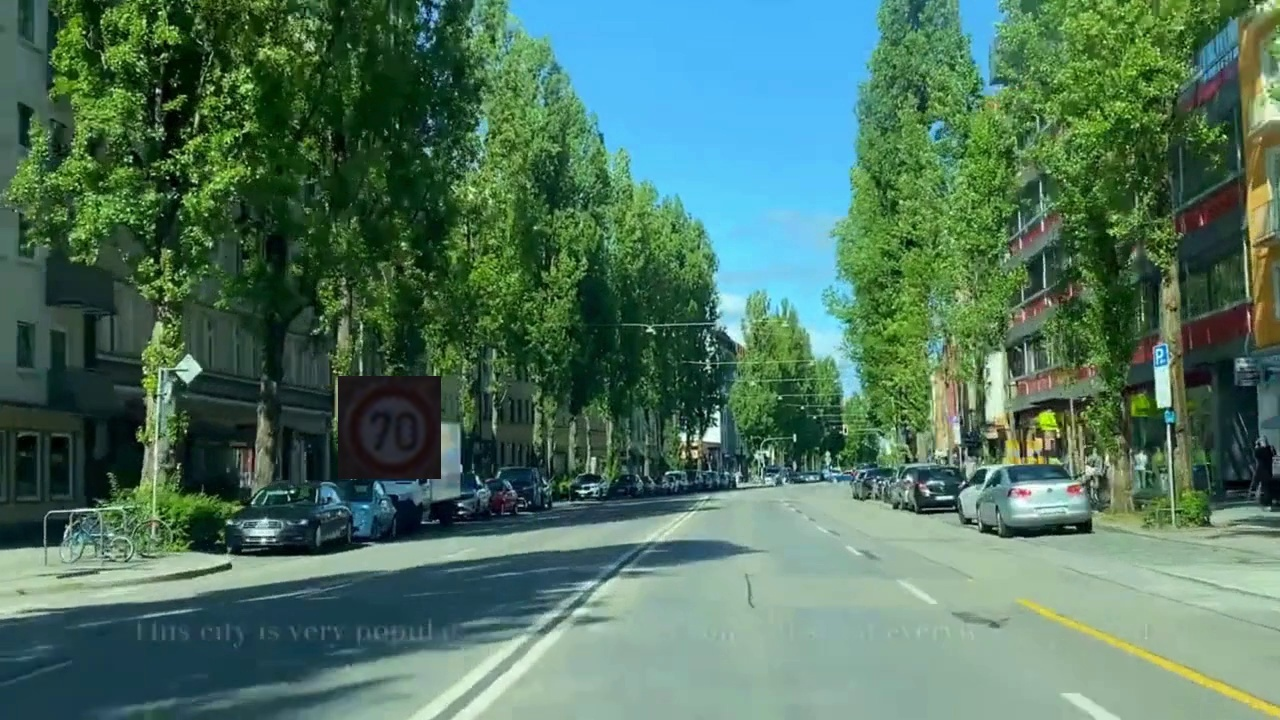Speed 70: (338, 376, 441, 479)
